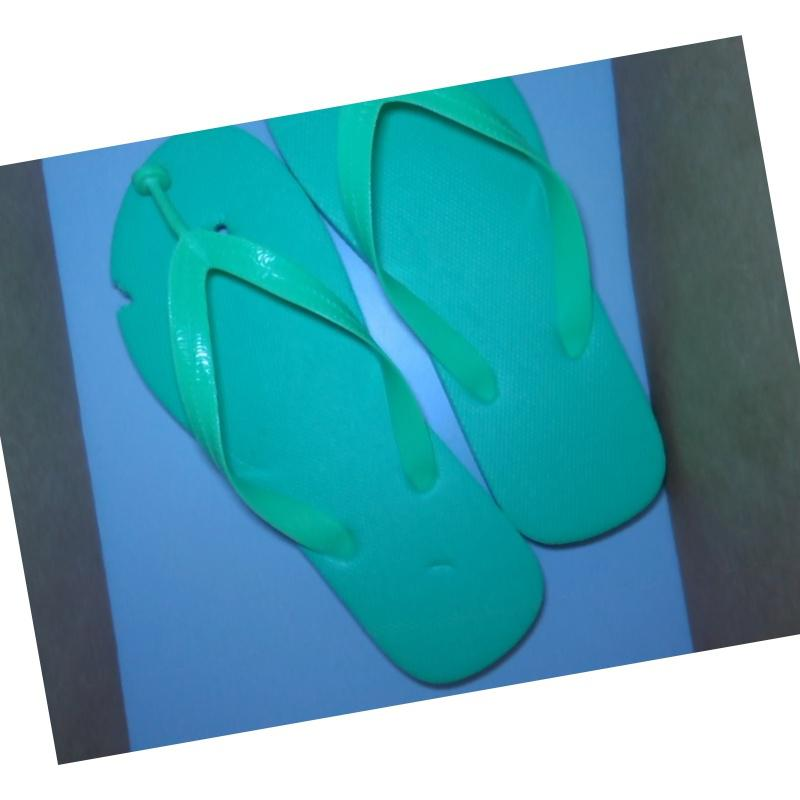chipped: (100, 262, 151, 327)
detached: (122, 155, 182, 220)
